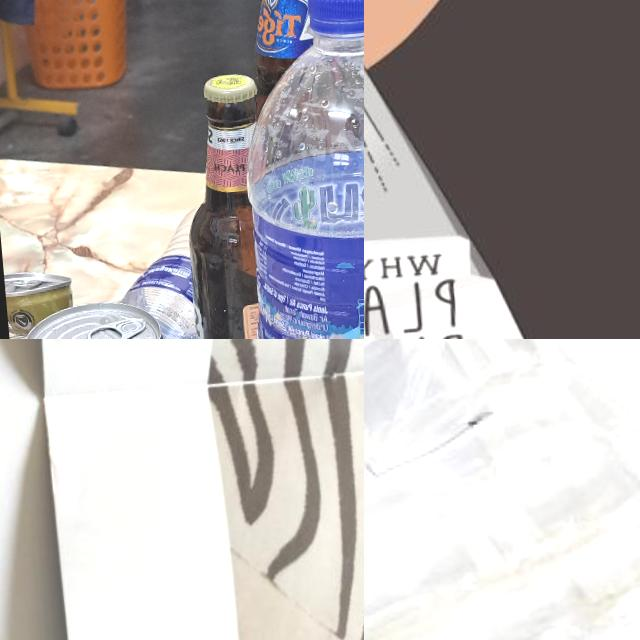aba de lata: (85, 315, 147, 339), (9, 276, 41, 288)
garrafa de vidro: (174, 72, 285, 339), (238, 0, 329, 116)
garrafa plástica: (227, 22, 364, 339), (114, 208, 218, 339)
lata: (4, 267, 82, 339)
papel: (25, 339, 364, 640)
sacola plástica: (364, 339, 640, 640), (364, 0, 604, 339)
tampa plástica: (305, 0, 364, 35)
